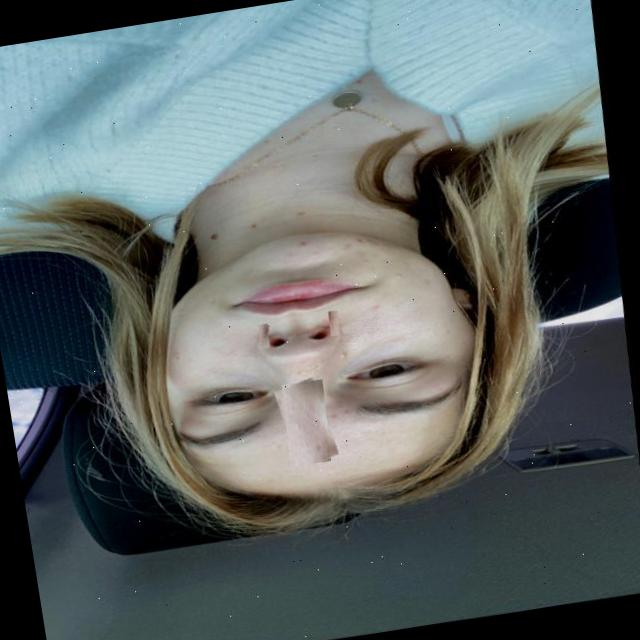redness: (279, 377, 344, 469), (332, 310, 344, 336), (261, 324, 273, 348)
